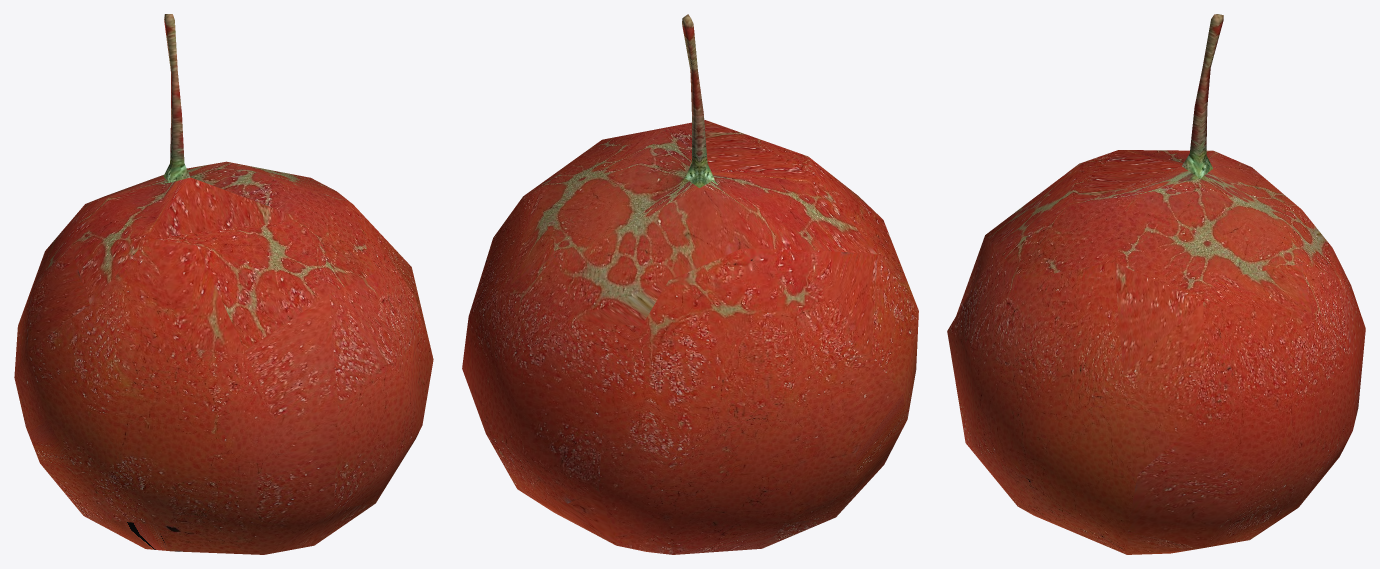
3 views of the same model, side by side, from view 1: azimuth 30°, elevation 25°; view 2: azimuth 150°, elevation 25°; view 3: azimuth 270°, elevation 25° (orthographic). The views are drawn at different scales.
Visible parts, largest first — view 1: 39_grapefruit; view 2: 39_grapefruit; view 3: 39_grapefruit.
Boxes of the visible parts, box(x1,y1,x2,y2) form: 39_grapefruit: box(14, 14, 433, 554); 39_grapefruit: box(462, 14, 918, 554); 39_grapefruit: box(947, 14, 1365, 554).
Size of the model in its own units: 101 by 130 by 99.16.
